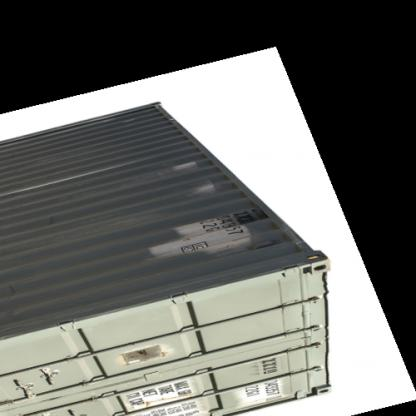Damage: (172, 156, 218, 196)
